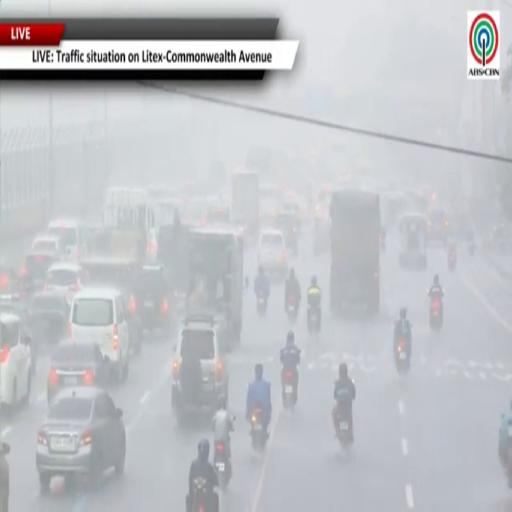car: (36, 387, 126, 493), (172, 314, 229, 423), (81, 256, 143, 355), (69, 288, 130, 381), (47, 341, 109, 403), (0, 313, 31, 407), (133, 265, 172, 335), (27, 291, 69, 346), (19, 250, 59, 296), (45, 262, 86, 301), (48, 219, 86, 261), (258, 229, 288, 279), (274, 212, 300, 255), (427, 207, 450, 246), (32, 233, 64, 255), (0, 442, 10, 511), (206, 203, 230, 225), (0, 294, 23, 316)
motorcycle: (214, 442, 231, 489), (250, 408, 267, 451), (191, 477, 209, 511), (337, 411, 352, 451), (395, 336, 410, 374), (282, 370, 296, 409), (504, 424, 512, 488), (430, 294, 443, 331), (308, 306, 320, 333), (287, 295, 297, 322), (257, 294, 267, 316), (447, 250, 457, 271), (469, 242, 475, 255)
truck: (186, 228, 244, 351), (330, 190, 380, 314), (231, 171, 259, 238)
